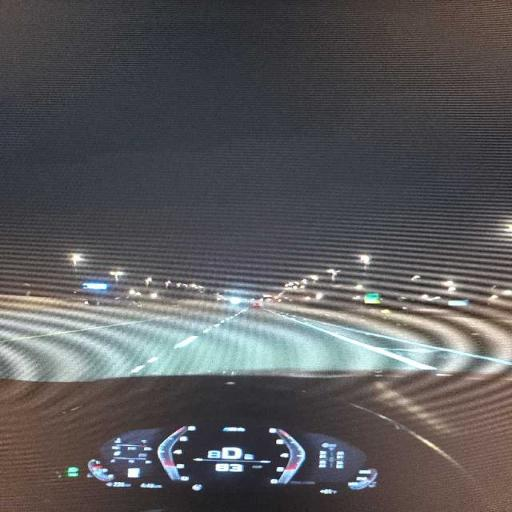car: (252, 301, 261, 307)
lane: (0, 301, 511, 380), (0, 300, 239, 380), (158, 309, 434, 374), (280, 313, 511, 372), (277, 314, 435, 369)
